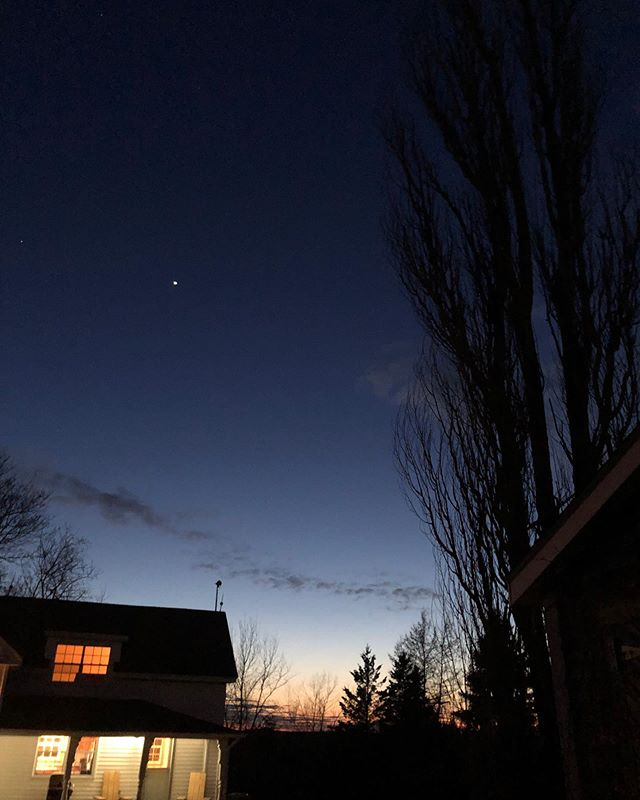building: (1, 598, 248, 800), (511, 449, 640, 800)
sky: (1, 1, 460, 600)
tree: (421, 1, 640, 589)
